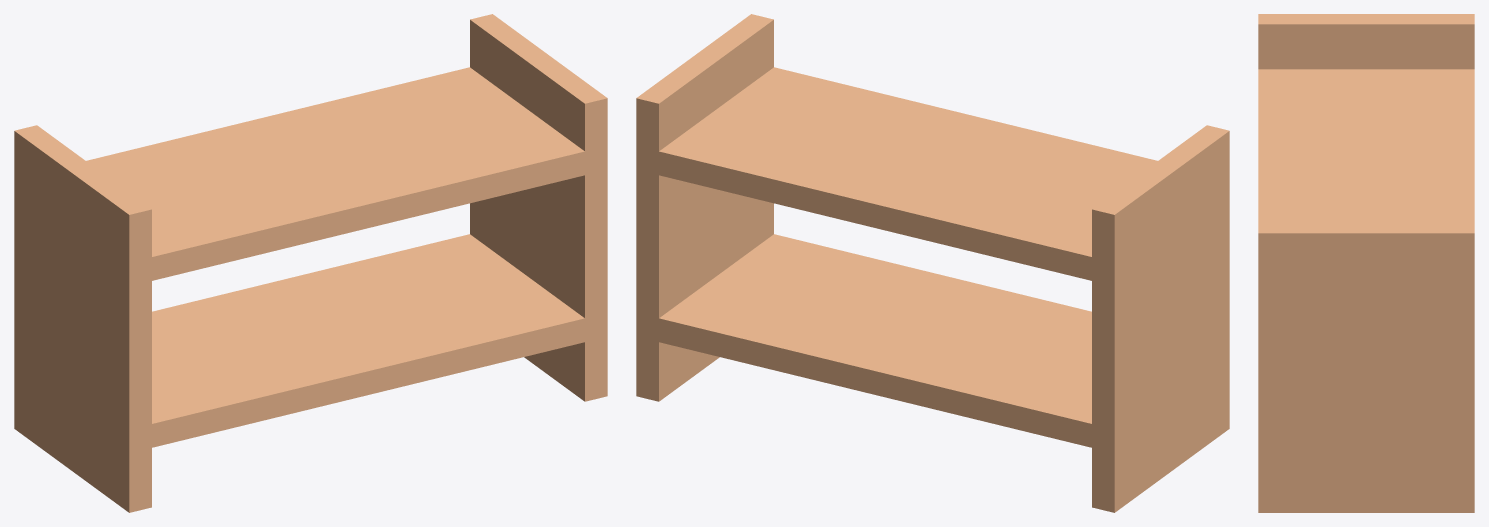
3 views of the same model, side by side, from view 1: azimuth 30°, elevation 25°; view 2: azimuth 150°, elevation 25°; view 3: azimuth 270°, elevation 25° (orthographic). The views are drawn at different scales.
Parts seen in each view (by area): view 1: Shelf.001, Shelf, Side, Side.001; view 2: Shelf.001, Shelf, Side, Side.001; view 3: Side.001, Shelf.001, Side.
Boxes of the visible parts, bbox=[...] form: Shelf.001: bbox=[86, 67, 596, 283]; Shelf: bbox=[140, 234, 596, 450]; Side: bbox=[14, 125, 151, 512]; Side.001: bbox=[470, 14, 607, 401]; Shelf.001: bbox=[647, 67, 1157, 283]; Shelf: bbox=[647, 234, 1103, 450]; Side: bbox=[1092, 125, 1229, 512]; Side.001: bbox=[636, 14, 773, 401]; Side.001: bbox=[1258, 222, 1474, 512]; Shelf.001: bbox=[1258, 69, 1474, 222]; Side: bbox=[1258, 14, 1474, 69].
Size of the model in its own units: 0.84 by 0.5 by 0.35.
1 material, 1 textured.
